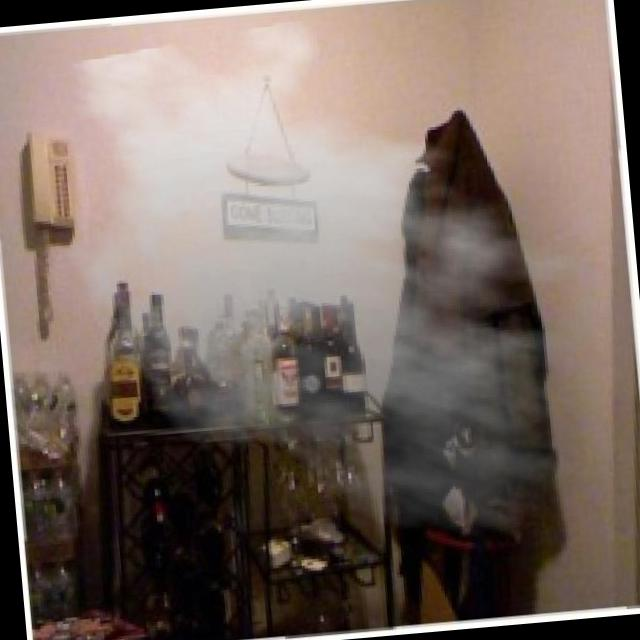Smoke: (29, 0, 636, 574)
